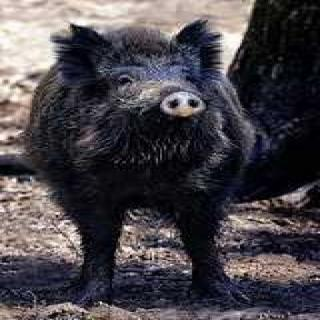Pig: (21, 13, 284, 296)
